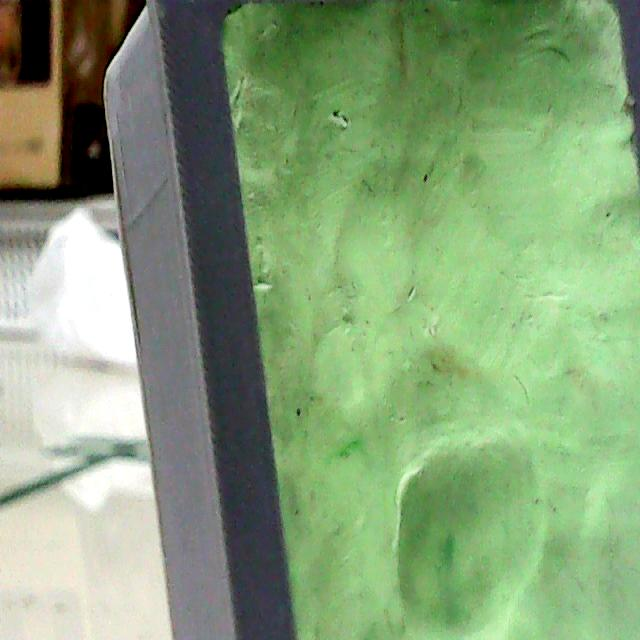block: (101, 0, 639, 638)
